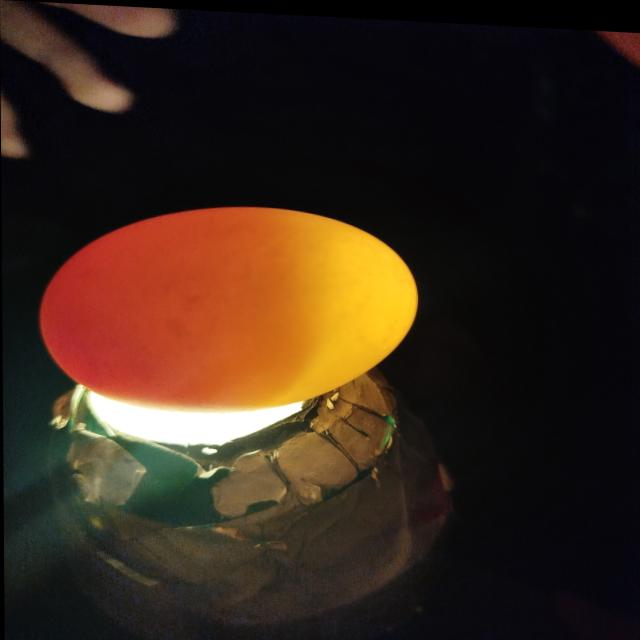Gema Quebrada: (40, 204, 317, 410)
